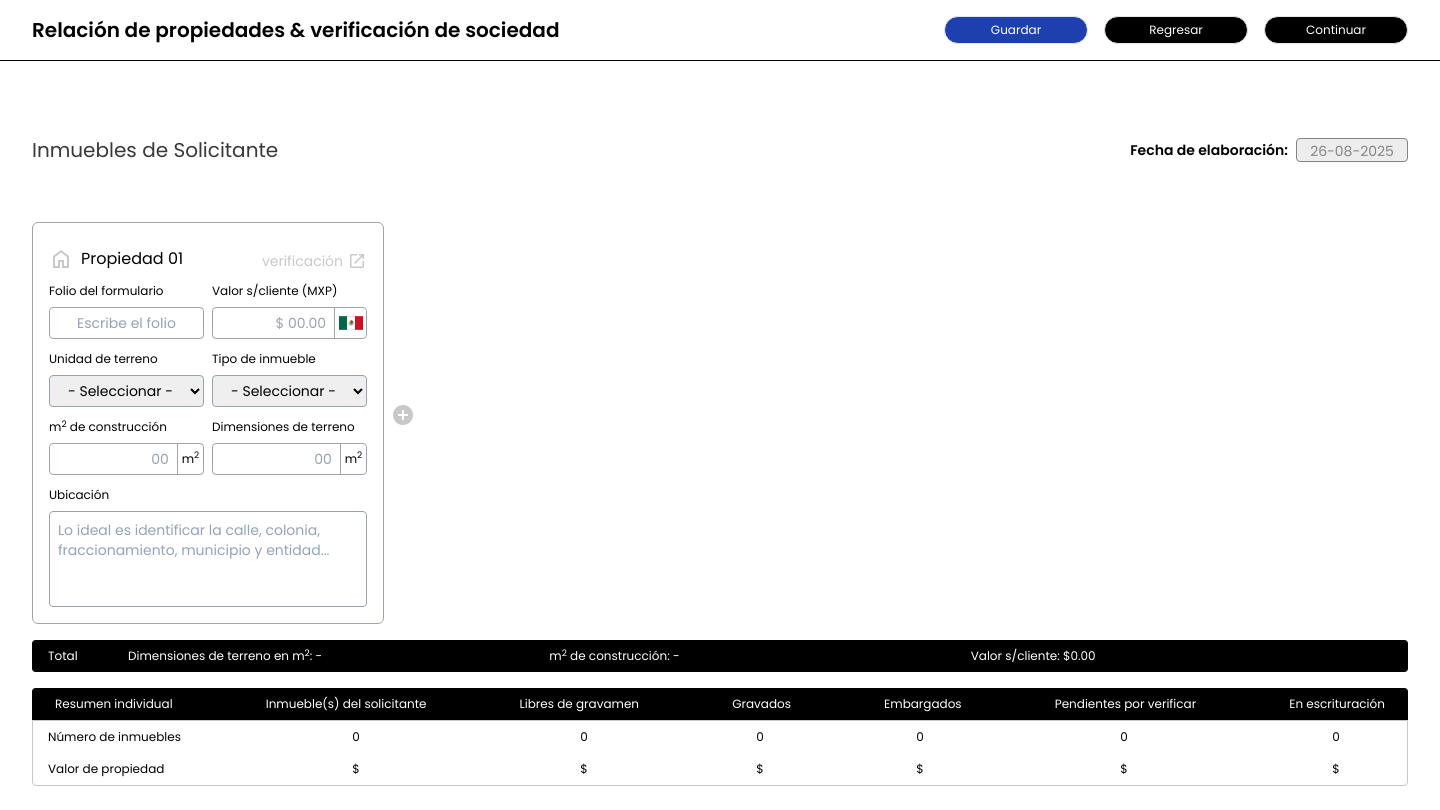
Test case: PropertyVerification › All redirects within the screen Property Verification › it should navigate to "Inmuebles de Obligado Solidario" screen when "Continuar" button is clicked
Click the button "Continuar".
click(1336, 30)  # box [1264,16,1408,44]
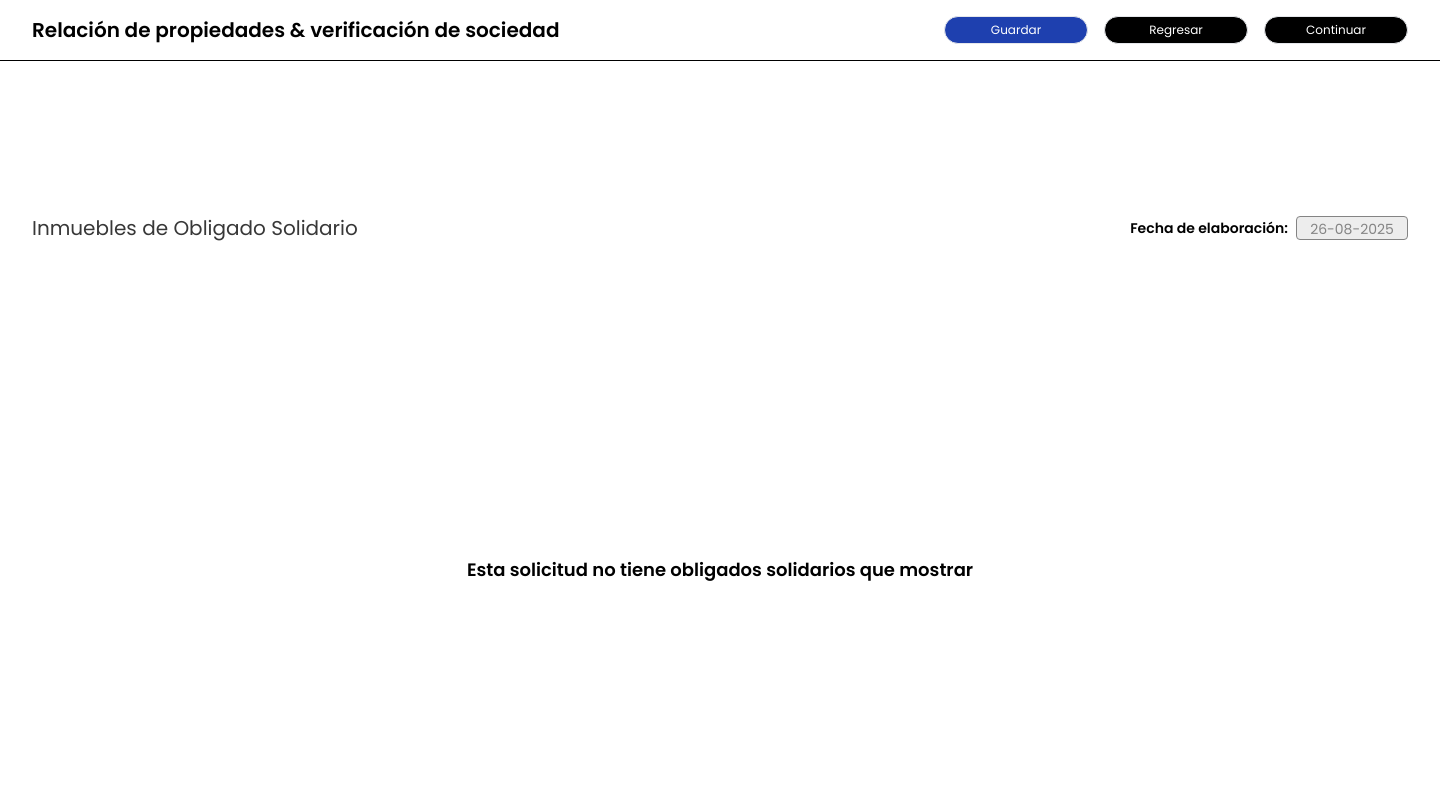
Expected: the heading "Inmuebles de Obligado Solidario" is shown, [32,214,358,242]
